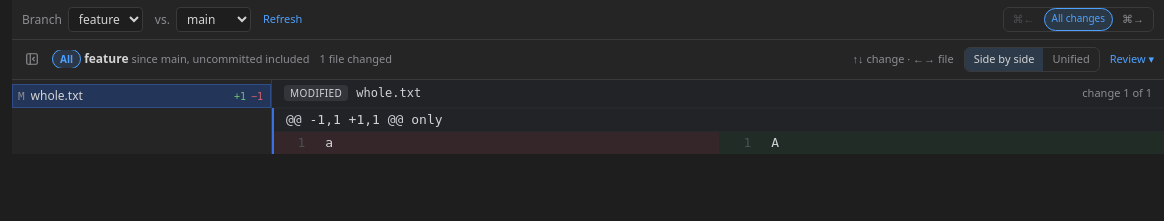
Test: DiffBrowserView — commits and the local-changes slot together › asking for a review › asks the session on the stage, whichever agent runs there
Press Enter in the button "Review ▾", box [1110,51,1154,68]
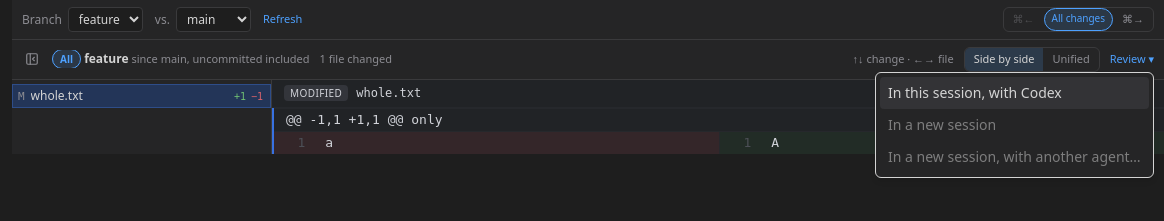
Click the menu item "In this session, with Codex".
click(1014, 93)  # box [880,77,1149,109]
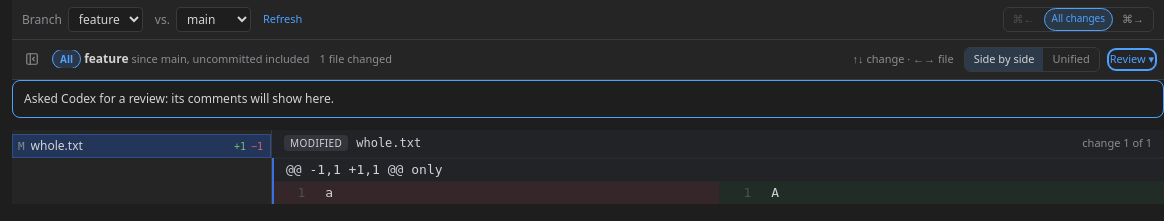
Expected: the text "Asked Codex for a review: its comments will show here." is shown, [12,80,1163,118]
